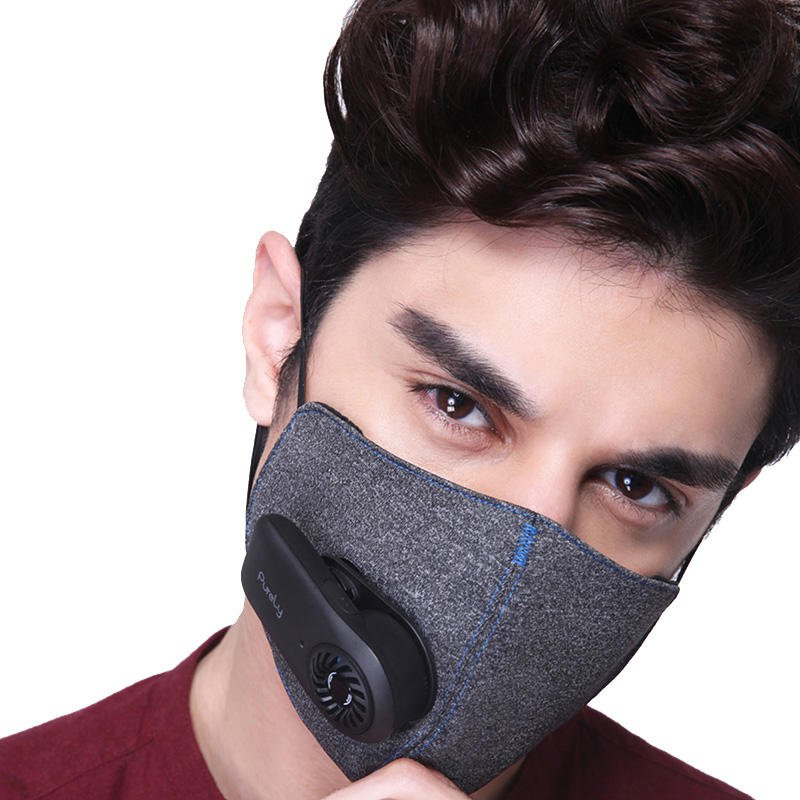mask: (187, 6, 797, 799)
